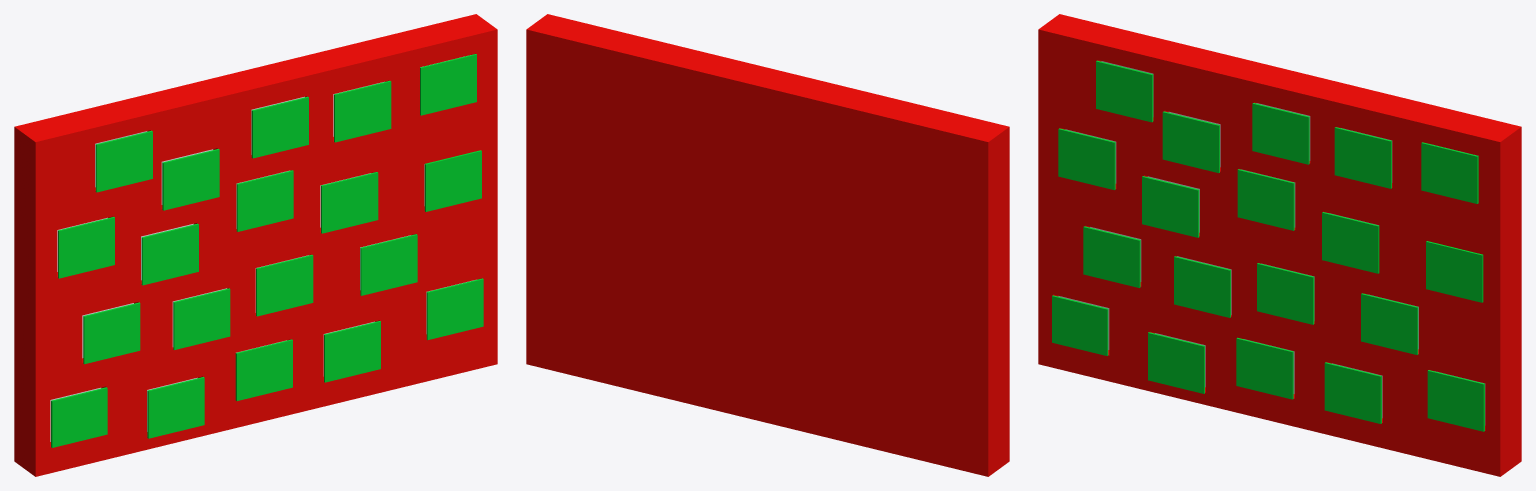
The model's file is Calendar.glb.
The picture shows the model from 3 angles, left to right: view 1: azimuth 30°, elevation 25°; view 2: azimuth 150°, elevation 25°; view 3: azimuth 330°, elevation 25°; orthographic projection.
Parts seen in each view (by area): view 1: Calendar, Door.016, Door.004, Door.006, Door.010, Door.011, Door.014, Door.015, Door.018, Door.002, Door.008, Door.012 (+8 smaller); view 2: Calendar; view 3: Calendar, Door.003, Door.008, Door.009, Door.014, Door.002, Door.007, Door.010, Door.011, Door.012, Door.015, Door.018 (+8 smaller).
Part boxes in pixels (x1,y1,x2,y2): Calendar: [14, 14, 497, 476]; Door.016: [334, 80, 391, 142]; Door.004: [95, 130, 152, 192]; Door.006: [173, 288, 230, 349]; Door.010: [256, 254, 313, 316]; Door.011: [236, 170, 293, 231]; Door.014: [360, 234, 417, 295]; Door.015: [321, 172, 378, 233]; Door.018: [424, 150, 481, 211]; Door.002: [83, 302, 140, 364]; Door.008: [162, 149, 219, 210]; Door.012: [251, 96, 308, 158]; Calendar: [526, 14, 1009, 476]; Calendar: [1038, 14, 1521, 476]; Door.003: [1058, 128, 1115, 190]; Door.008: [1162, 111, 1219, 173]; Door.009: [1236, 337, 1293, 399]; Door.014: [1361, 293, 1418, 354]; Door.002: [1083, 226, 1140, 287]; Door.007: [1142, 176, 1199, 237]; Door.010: [1257, 263, 1314, 324]; Door.011: [1237, 169, 1294, 230]; Door.012: [1252, 103, 1309, 164]; Door.015: [1322, 212, 1379, 273]; Door.018: [1426, 241, 1483, 302].
Size of the model in its own units: 7.55 by 5.23 by 0.652.
